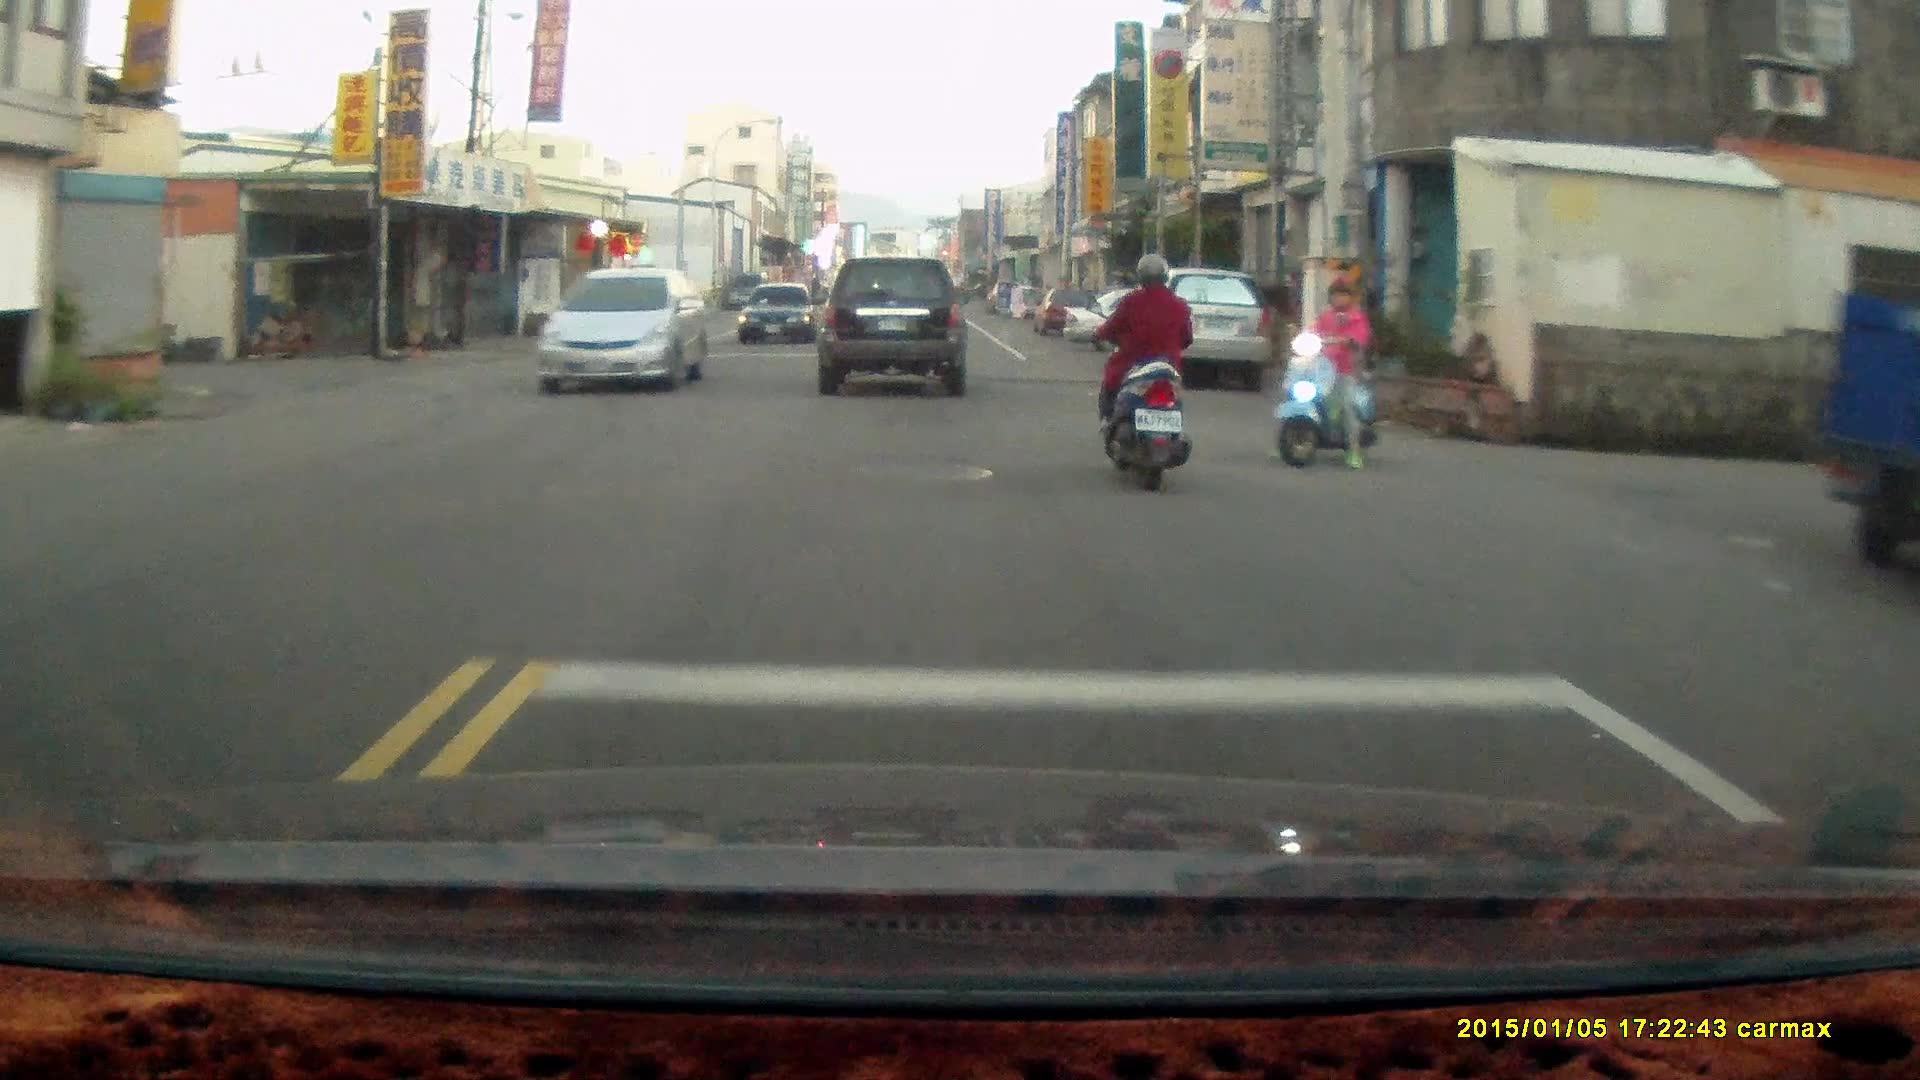rider: (1268, 270, 1383, 472), (1098, 252, 1192, 499)
vehicle: (1822, 241, 1920, 576), (536, 268, 710, 396), (816, 256, 969, 401), (1115, 269, 1275, 391), (741, 284, 819, 348)
